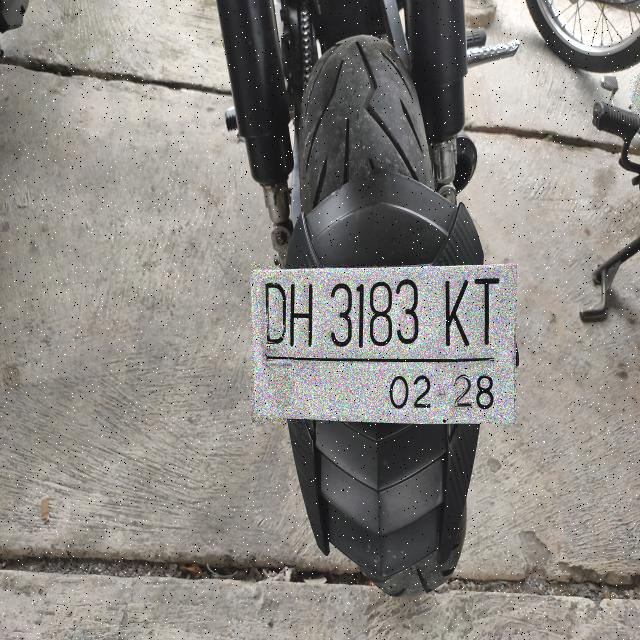plate: (252, 265, 516, 423), (631, 75, 639, 114)
